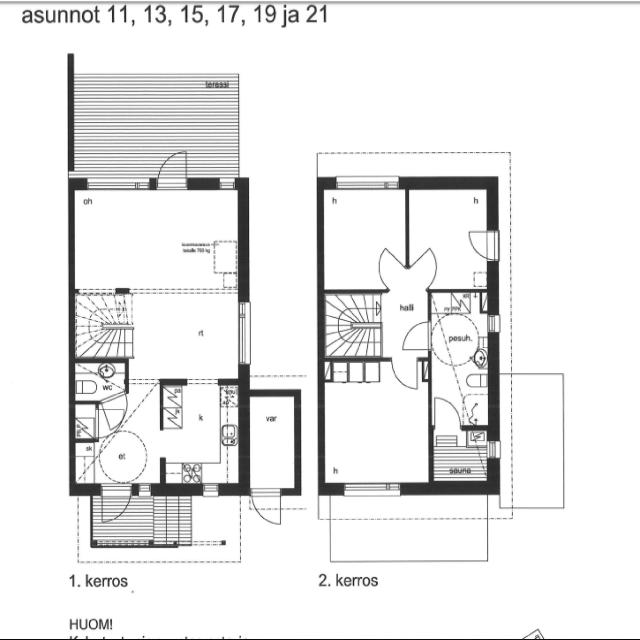door: (154, 145, 192, 188), (371, 244, 409, 286), (397, 377, 435, 417), (397, 316, 434, 356), (249, 488, 284, 528), (388, 355, 422, 393), (466, 227, 501, 263), (102, 485, 134, 523), (431, 394, 462, 429)
window: (335, 477, 408, 500), (332, 173, 404, 193), (235, 298, 254, 370), (84, 176, 150, 192), (198, 480, 224, 498), (487, 310, 503, 337), (486, 438, 502, 464), (216, 175, 239, 192), (183, 376, 222, 386)
zone: (71, 182, 240, 292), (320, 358, 432, 488), (125, 289, 239, 381), (321, 183, 408, 290), (406, 185, 493, 288), (428, 290, 492, 428), (161, 380, 241, 487), (247, 393, 297, 490), (429, 426, 492, 486), (72, 358, 128, 402)
